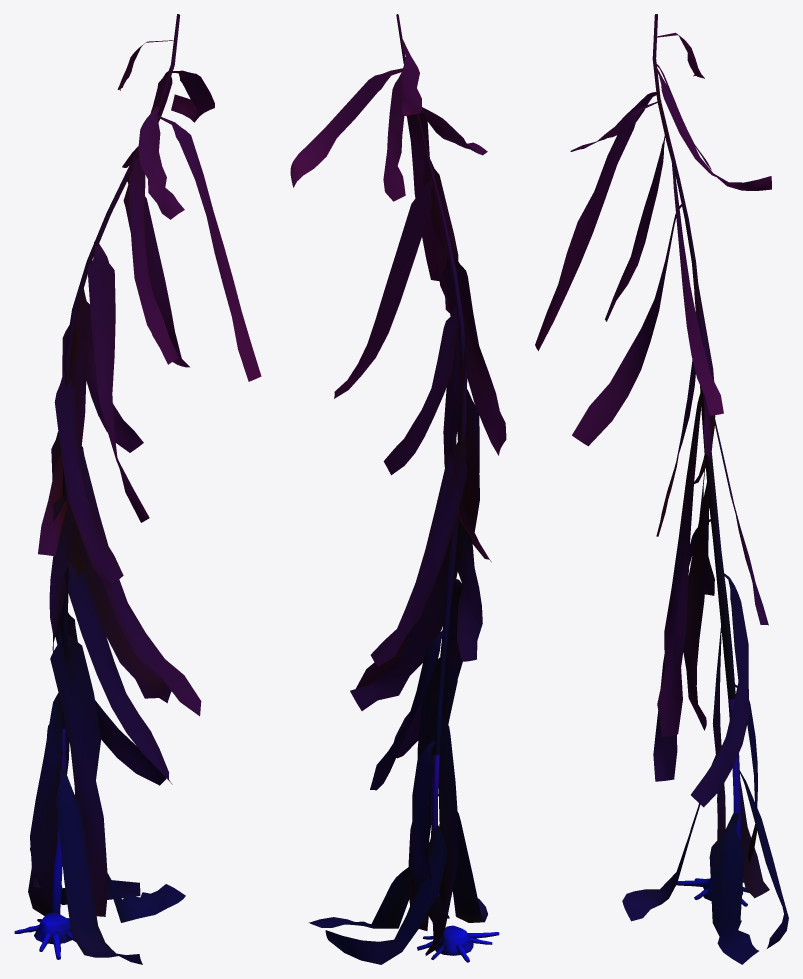
File: MESH_Flora_Kelp_s4021_q100.fbx
3 views of the same model, side by side, from view 1: azimuth 30°, elevation 25°; view 2: azimuth 150°, elevation 25°; view 3: azimuth 270°, elevation 25° (orthographic). The views are drawn at different scales.
Parts seen in each view (by area): view 1: MESH_Flora_Kelp_s4021_q100_LOD0; view 2: MESH_Flora_Kelp_s4021_q100_LOD0; view 3: MESH_Flora_Kelp_s4021_q100_LOD0.
Boxes of the visible parts, left/top/right/bottom form: MESH_Flora_Kelp_s4021_q100_LOD0: left=14, top=14, right=261, bottom=964; MESH_Flora_Kelp_s4021_q100_LOD0: left=290, top=14, right=506, bottom=964; MESH_Flora_Kelp_s4021_q100_LOD0: left=535, top=14, right=788, bottom=964.
Size of what is drawn, in the model's own units: 179 by 853 by 211.
